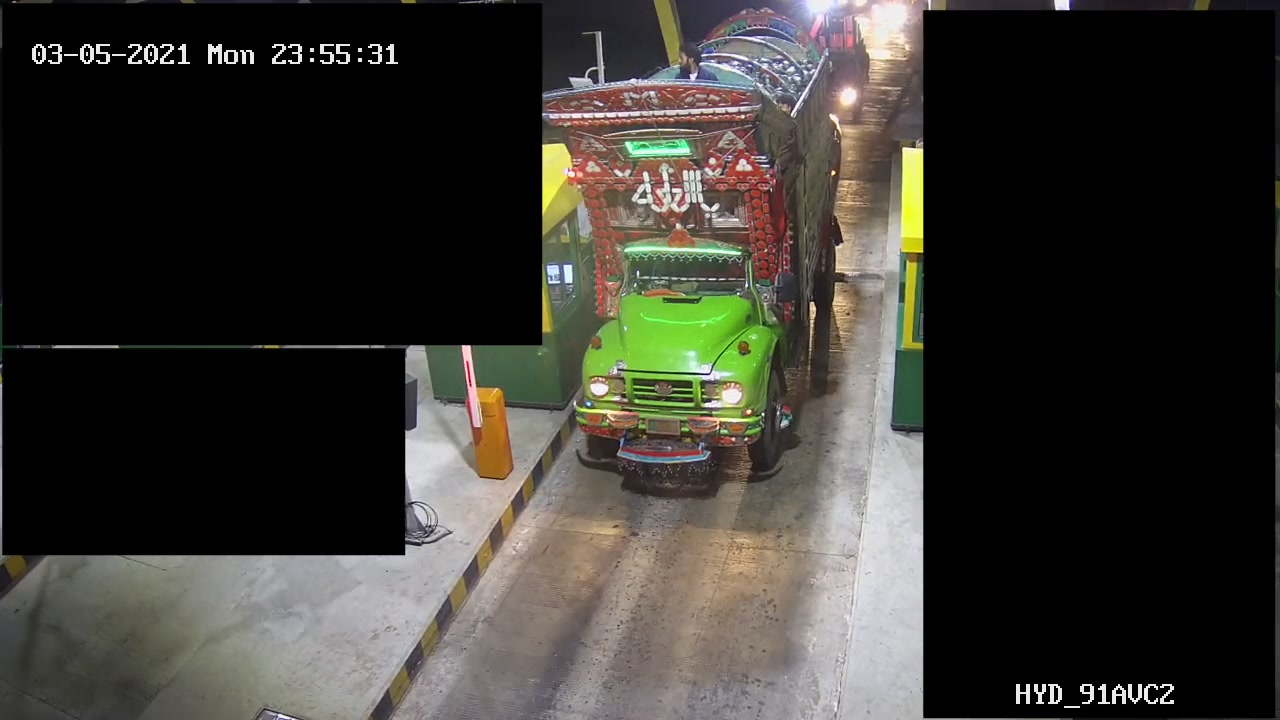F5: (530, 1, 844, 514)
